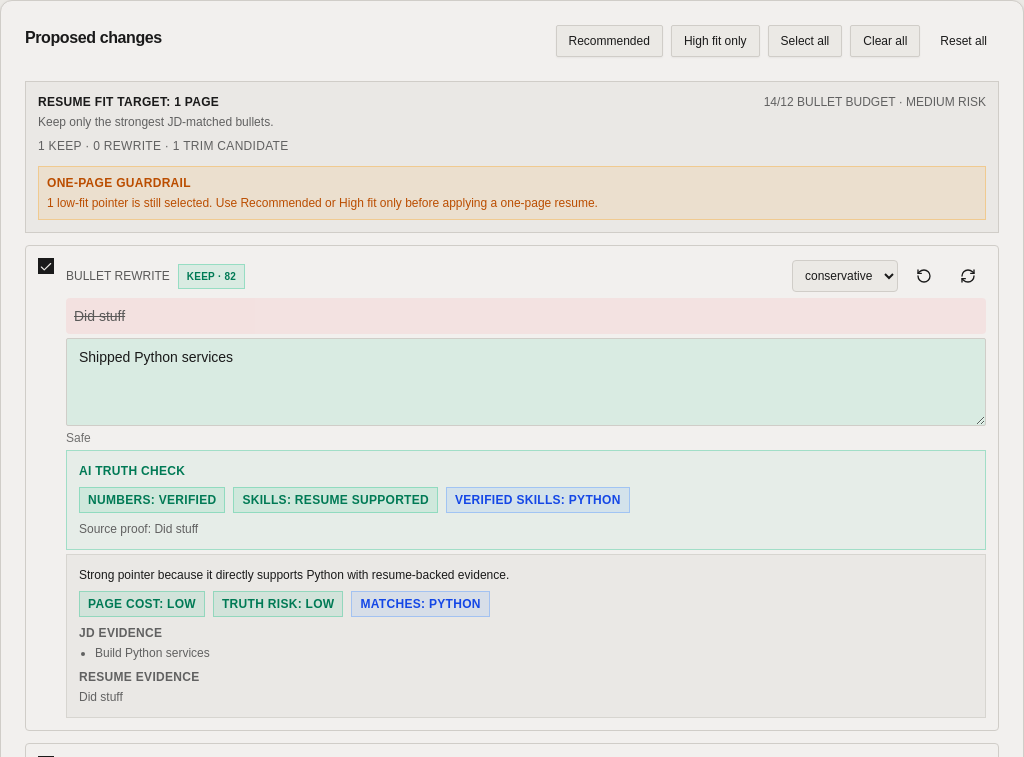
Test: DiffView › regenerates options for a single pointer
Click the button named "regenerate pointer" in the row of "82" at (968, 276), box [950, 258, 986, 294]
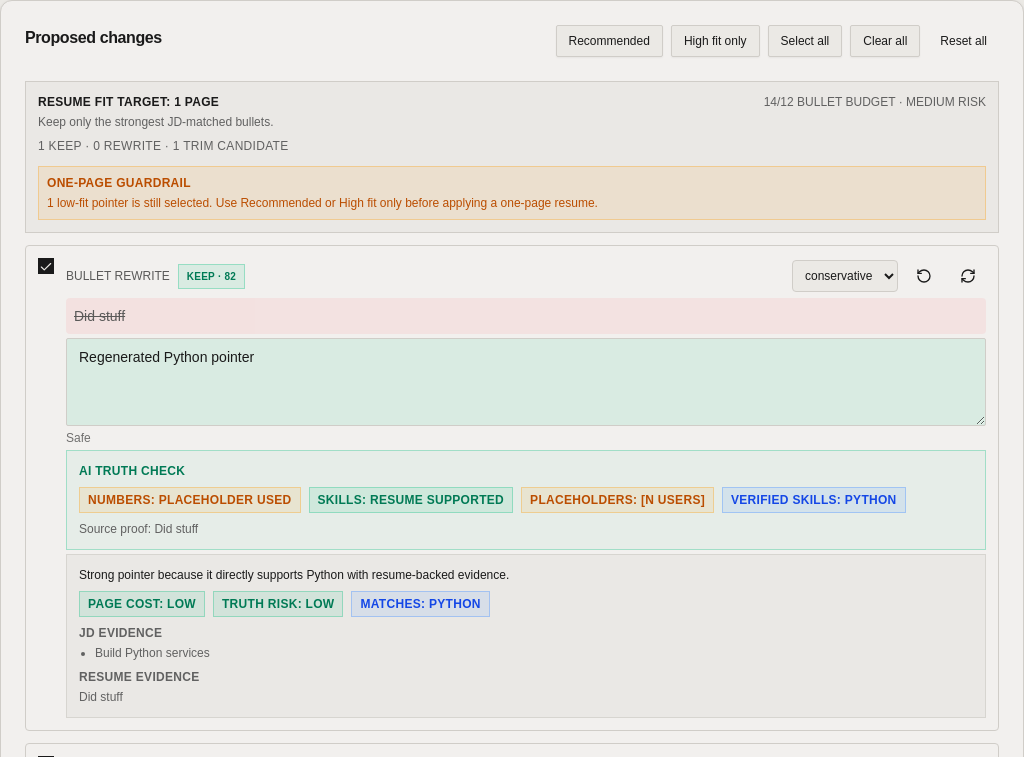
Check: the text box showing "Regenerated Python pointer" is shown, box [66, 338, 986, 426]
Check: the text "Placeholders: [N users]" is shown, box [521, 487, 714, 513]
